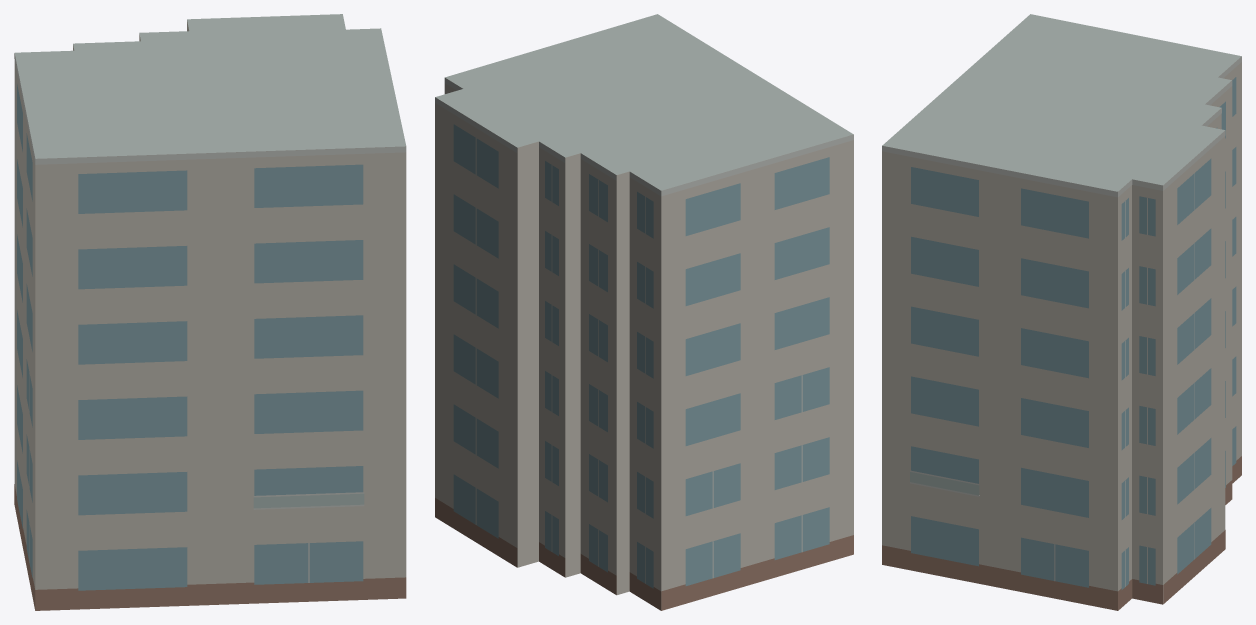
File: survey-upis-32662227.glb
3 views of the same model, side by side, from view 1: azimuth 30°, elevation 25°; view 2: azimuth 150°, elevation 25°; view 3: azimuth 270°, elevation 25° (orthographic). The views are drawn at different scales.
Parts seen in each view (by area): view 1: survey-upis-32662227.tmp; view 2: survey-upis-32662227.tmp; view 3: survey-upis-32662227.tmp.
Boxes of the visible parts, left/top/right/bottom form: survey-upis-32662227.tmp: left=14, top=14, right=406, bottom=610; survey-upis-32662227.tmp: left=435, top=14, right=853, bottom=610; survey-upis-32662227.tmp: left=882, top=14, right=1241, bottom=610.
Size of the model in its own units: 16.66 by 18.3 by 14.25.
